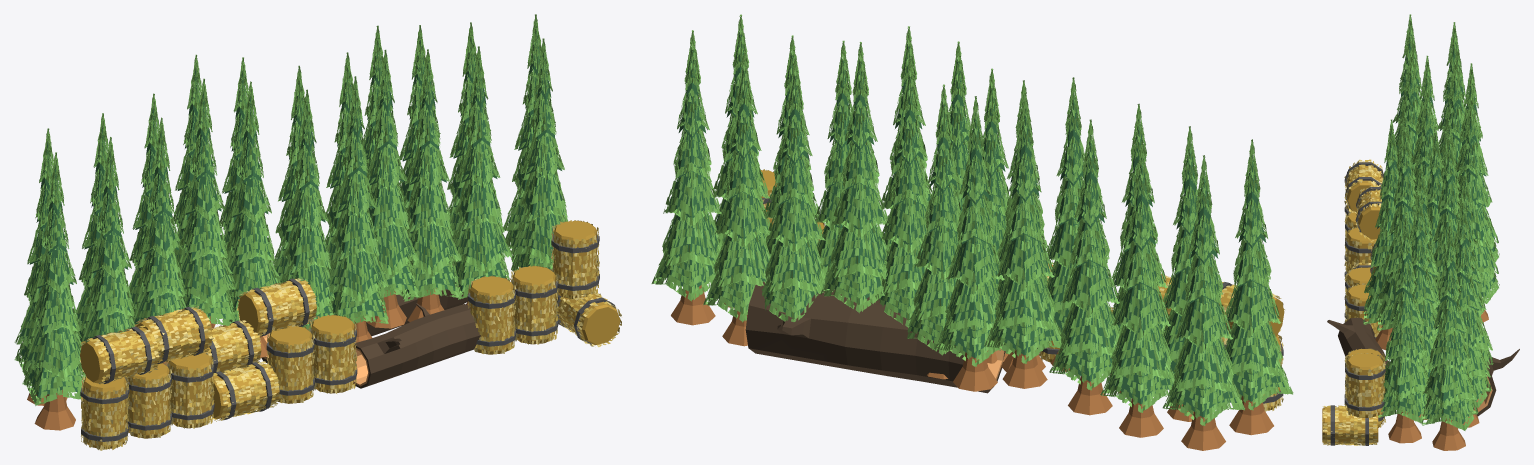
Rendered from BORDER_UPPER.fbx.
3 renders of one model, left to right at view 1: azimuth 30°, elevation 25°; view 2: azimuth 150°, elevation 25°; view 3: azimuth 270°, elevation 25°, orthographic. The views are drawn at different scales.
Parts seen in each view (by area): view 1: Cylinder.093; view 2: Cylinder.093; view 3: Cylinder.093.
Part boxes in pixels (bbox=[...]): Cylinder.093: bbox=[14, 14, 621, 450]; Cylinder.093: bbox=[651, 14, 1293, 450]; Cylinder.093: bbox=[1322, 14, 1519, 450].
Size of the model in its own units: 16013 by 8357 by 5878.
